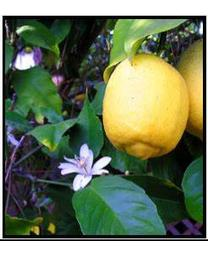lemon: (104, 53, 189, 159)
